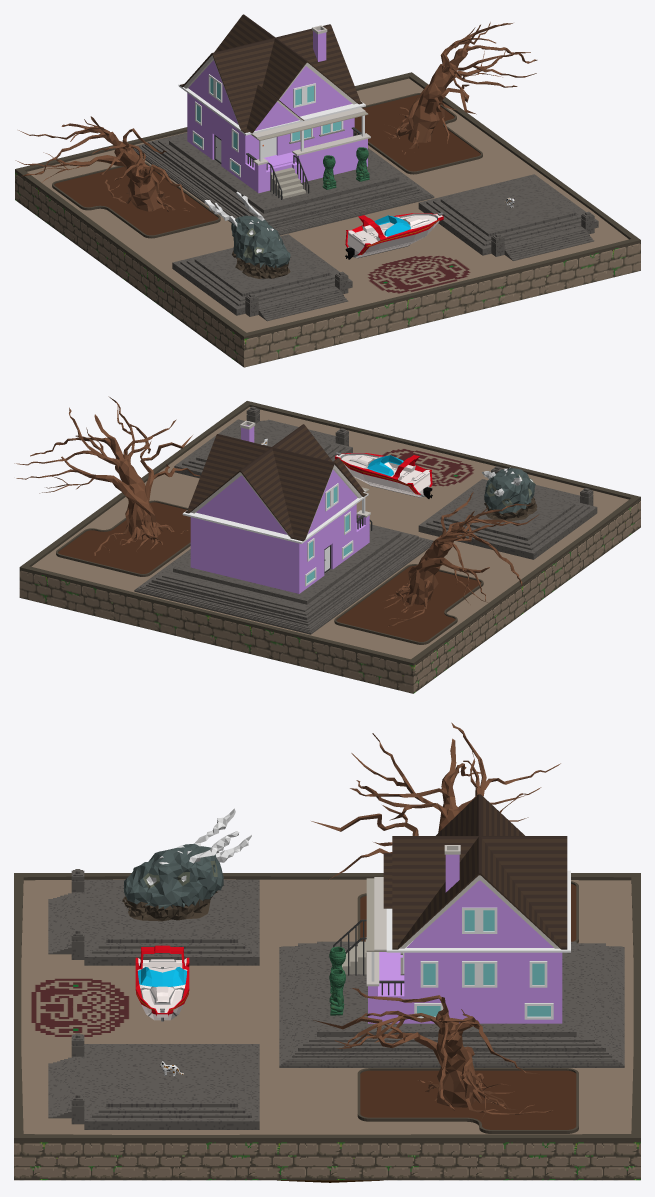
3 views of the same model, one above another, from view 1: azimuth 30°, elevation 25°; view 2: azimuth 150°, elevation 25°; view 3: azimuth 270°, elevation 25° (orthographic). The views are drawn at different scales.
Parts seen in each view (by area): view 1: Cube.011, Cube.391, OBJRANDOM_METEORITE, VEHICLES_BOAT; view 2: Cube.011, Cube.391, VEHICLES_BOAT, OBJRANDOM_METEORITE; view 3: Cube.011, Cube.391, OBJRANDOM_METEORITE, VEHICLES_BOAT.
Part boxes in pixels (<box>): Cube.011: <box>15,22,640,367</box>; Cube.391: <box>178,14,370,199</box>; OBJRANDOM_METEORITE: <box>204,191,290,278</box>; VEHICLES_BOAT: <box>345,212,443,259</box>; Cube.011: <box>14,396,640,693</box>; Cube.391: <box>182,420,372,593</box>; VEHICLES_BOAT: <box>335,452,432,498</box>; OBJRANDOM_METEORITE: <box>482,467,537,522</box>; Cube.011: <box>14,722,640,1180</box>; Cube.391: <box>333,794,570,1023</box>; OBJRANDOM_METEORITE: <box>122,808,251,921</box>; VEHICLES_BOAT: <box>135,945,189,1021</box>.
Size of the model in its own units: 5099 by 1726 by 4000.
36 materials, 5 textured.
